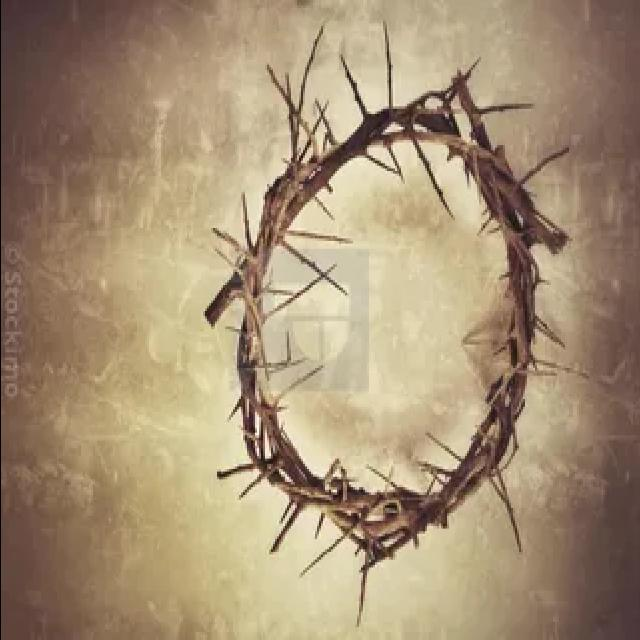crown: (212, 57, 560, 577)
